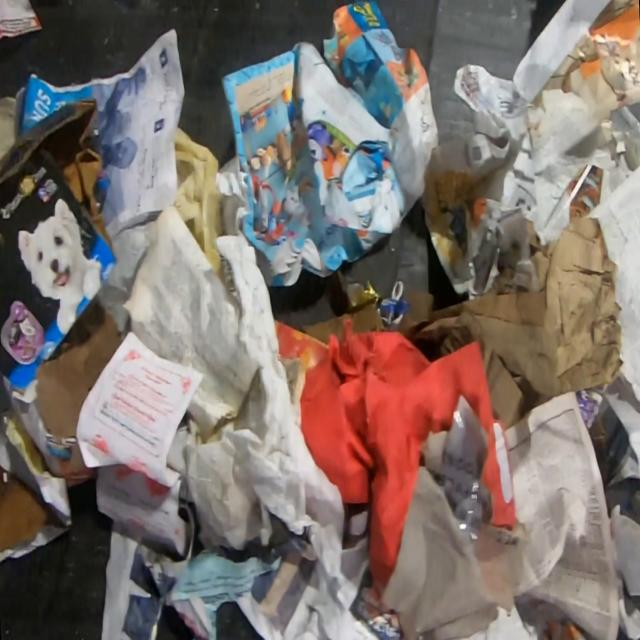cardboard: (0, 98, 118, 397), (301, 278, 436, 346), (0, 463, 50, 555)
soft_plastic: (436, 393, 494, 541)
